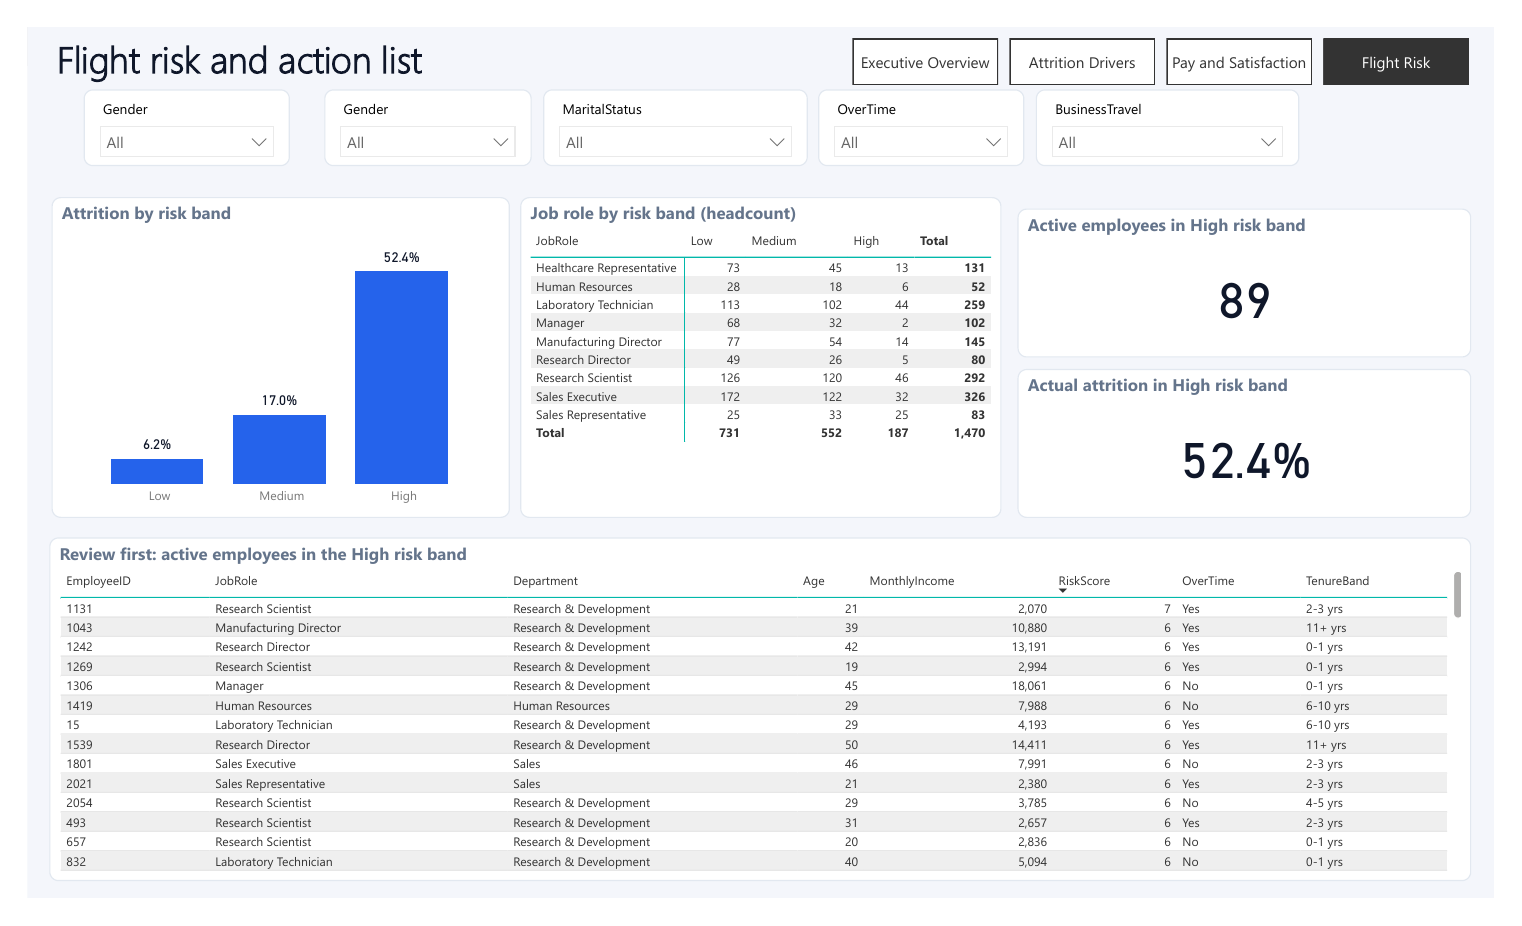

The dashboard page shown, as its layout file describes it:
{"tool":"powerbi","page":{"name":"Flight Risk","canvas":[1280,760],"ordinal":3},"visuals":[{"type":"textbox","box":[20.6,0,688.9,53.5],"z":0},{"type":"pageNavigator","box":[720,10,540,40],"z":1000},{"type":"slicer","fields":{"Values":["HR.Gender"]},"box":[259.3,53.5,181.1,67.2],"z":3000},{"type":"slicer","fields":{"Values":["HR.MaritalStatus"]},"box":[450.1,53.5,230.5,67.2],"z":4000},{"type":"slicer","fields":{"Values":["HR.OverTime"]},"box":[690.2,53.5,179.8,67.2],"z":5000},{"type":"slicer","fields":{"Values":["HR.BusinessTravel"]},"box":[879.6,53.5,230.5,67.2],"z":6000},{"type":"clusteredColumnChart","title":"Attrition by risk band","fields":{"Category":["HR.RiskBand"],"Y":["HR.Attrition Rate"]},"box":[20.6,148.2,400,280],"z":7000},{"type":"pivotTable","title":"Job role by risk band (headcount)","fields":{"Columns":["HR.RiskBand"],"Rows":["HR.JobRole"],"Values":["HR.Headcount"]},"box":[429.5,148.2,420,280],"z":8000},{"type":"card","title":"Active employees in High risk band","fields":{"Values":["HR.Active High Risk"]},"box":[864.5,157.8,396,130],"z":9000},{"type":"card","title":"Actual attrition in High risk band","fields":{"Values":["HR.High Band Attrition Rate"]},"box":[864.5,297.8,396,130],"z":10000},{"type":"tableEx","title":"Review first: active employees in the High risk band","fields":{"Values":["HR.EmployeeID","HR.JobRole","HR.Department","HR.Age","HR.MonthlyIncome","HR.RiskScore","HR.OverTime","HR.TenureBand"]},"box":[19.2,444.6,1240.5,300.5],"z":11000},{"type":"slicer","fields":{"Values":["HR.Gender"]},"box":[49.4,53.5,179.8,67.2],"z":11001}]}

Visuals, with their boxes in screenshot pixels (x1, y1, x2, y2), scaled from the page's 1280x760 canvas onto the 1522x926 screenshot:
textbox: rect(24, 0, 844, 65)
pageNavigator: rect(856, 12, 1498, 61)
slicer - HR.Gender: rect(308, 65, 524, 147)
slicer - HR.MaritalStatus: rect(535, 65, 809, 147)
slicer - HR.OverTime: rect(821, 65, 1034, 147)
slicer - HR.BusinessTravel: rect(1046, 65, 1320, 147)
"Attrition by risk band" clusteredColumnChart: rect(24, 181, 500, 522)
"Job role by risk band (headcount)" pivotTable: rect(511, 181, 1010, 522)
"Active employees in High risk band" card: rect(1028, 192, 1499, 351)
"Actual attrition in High risk band" card: rect(1028, 363, 1499, 521)
"Review first: active employees in the High risk band" tableEx: rect(23, 542, 1498, 908)
slicer - HR.Gender: rect(59, 65, 273, 147)
